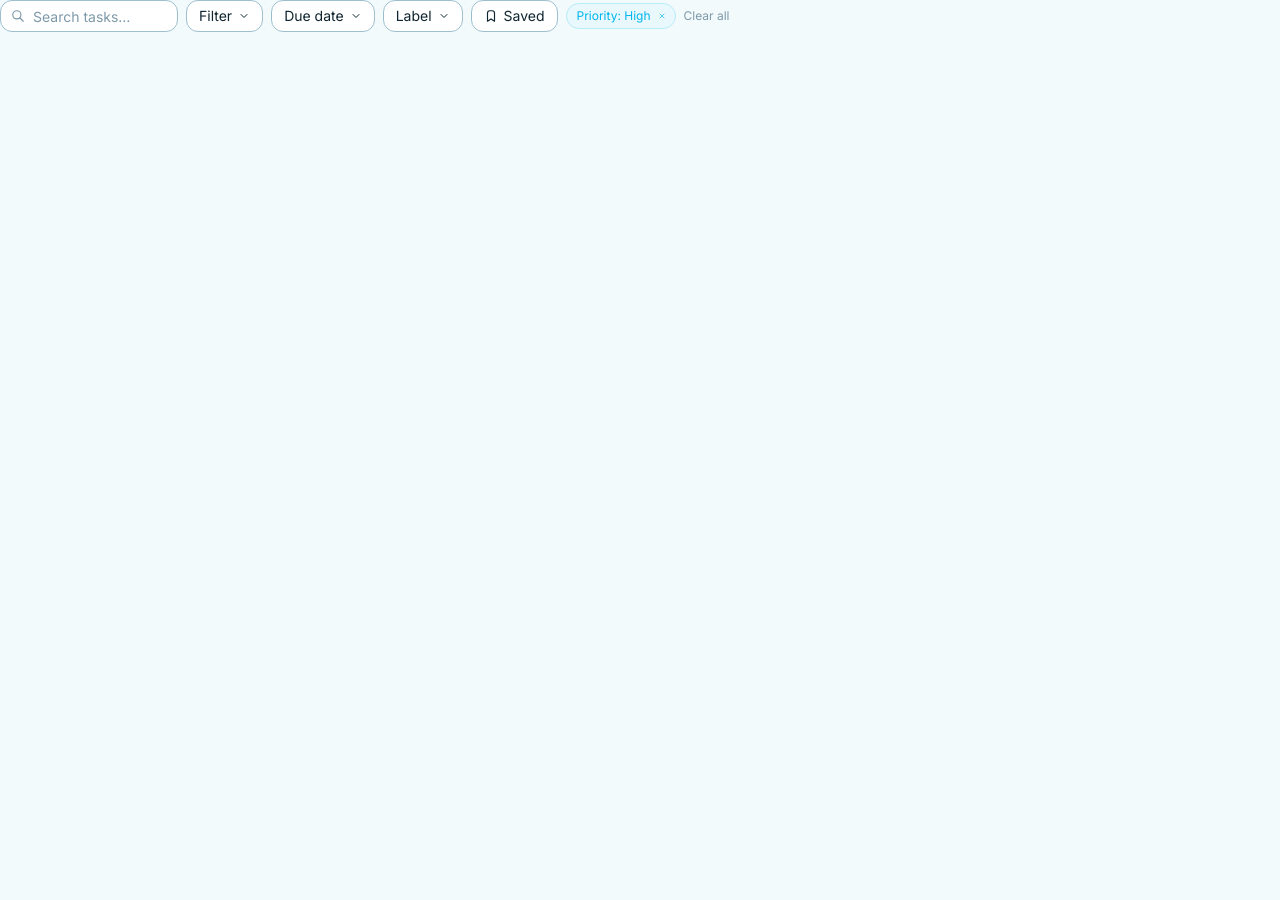
Test: FilterBar › shows save input when filters are active
Click the button with aria-label "saved filters": {"x": 514, "y": 16} 471,0 -> 558,32
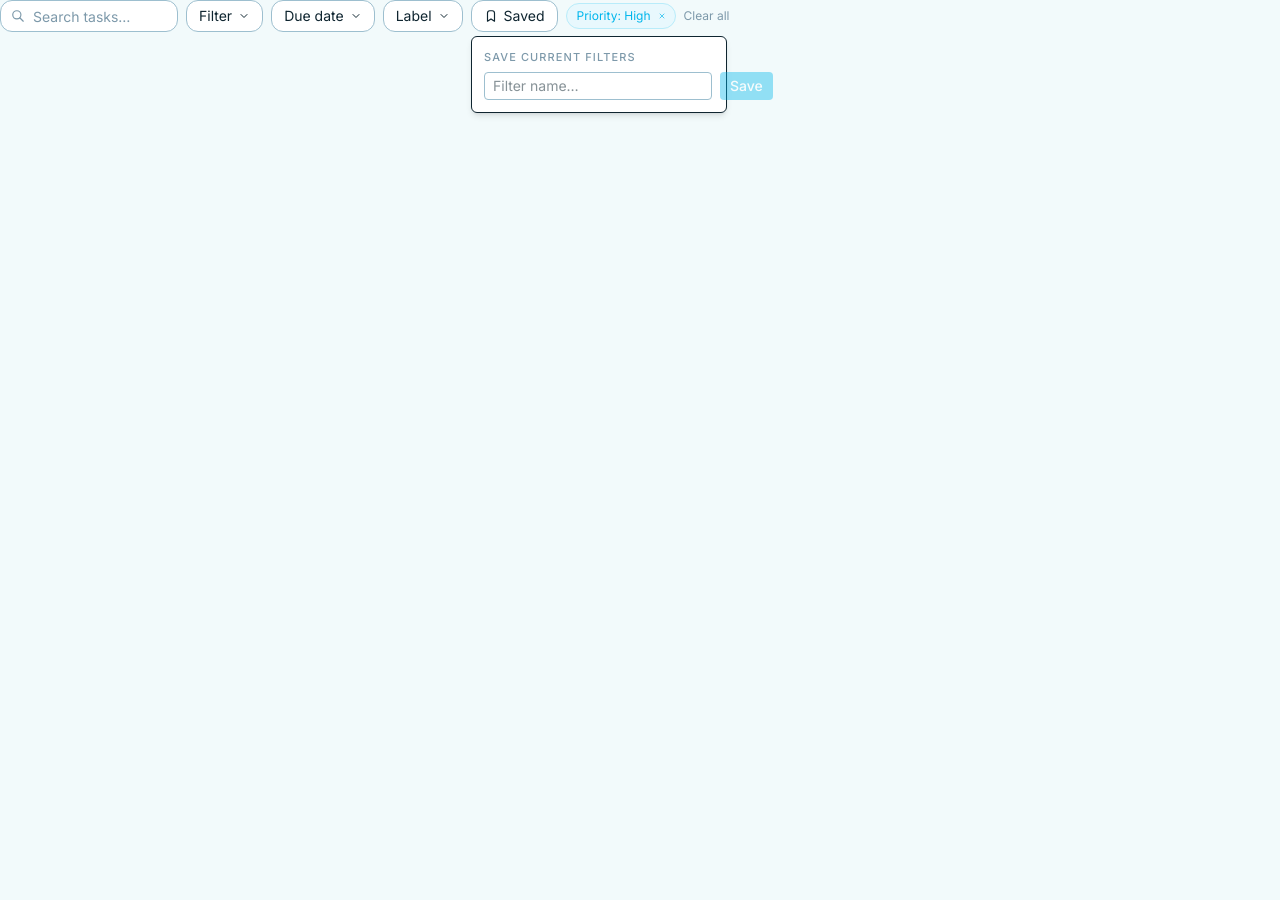
expect the field labelled "Filter name…" is shown: met, box 484,72 -> 712,100
